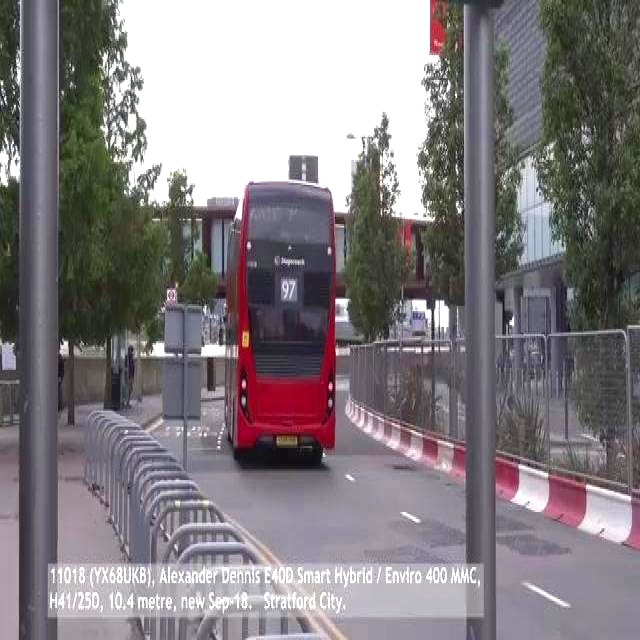bus: (194, 165, 378, 481)
